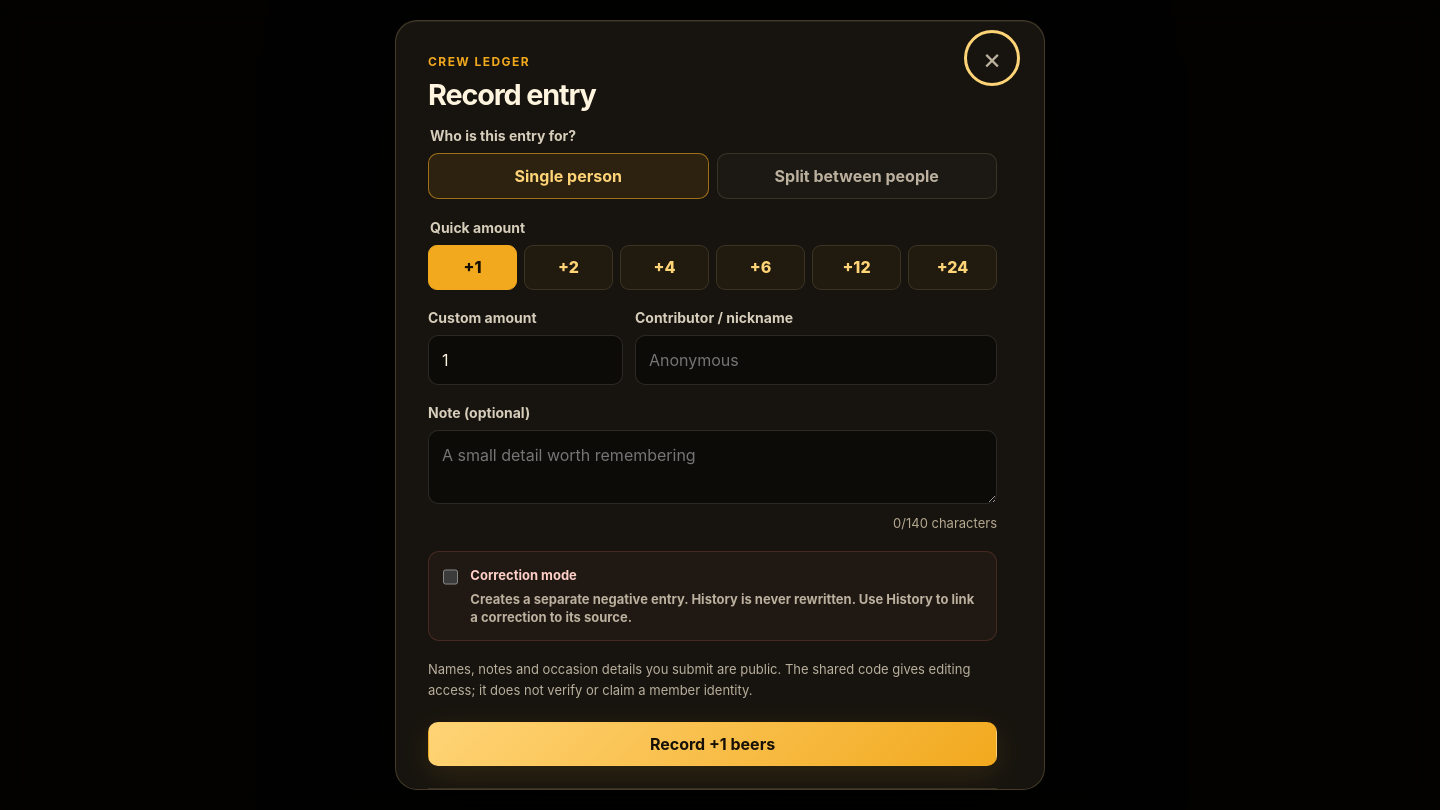
UpdateModal group mode › blocks equal splitting when the total is below the participant count
The width and height of the screenshot is (1440, 810).
Click the button "Split between people" at x=857, y=176, box [716,152,997,198]
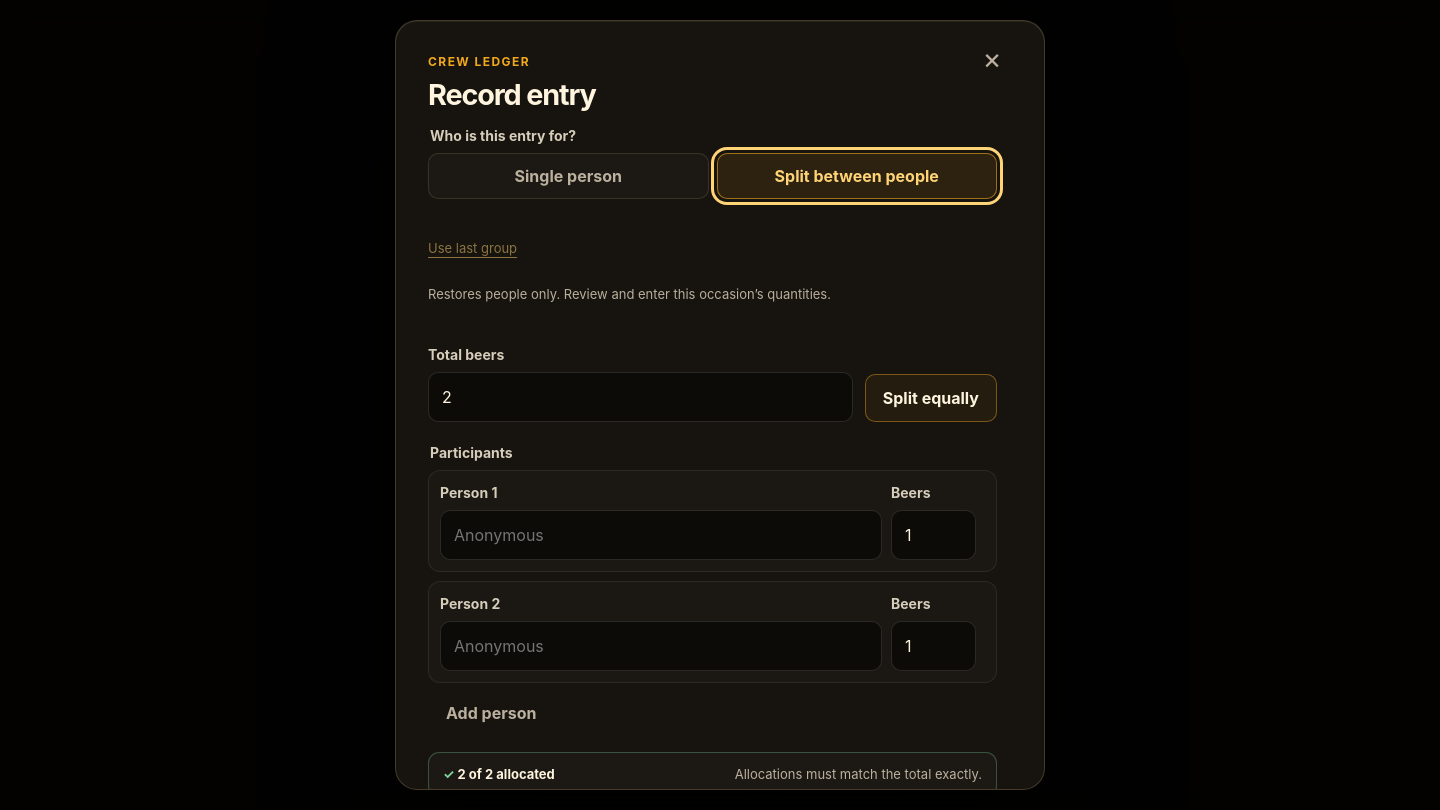
Click the button "Add person" at x=491, y=714, box [428,691,554,736]
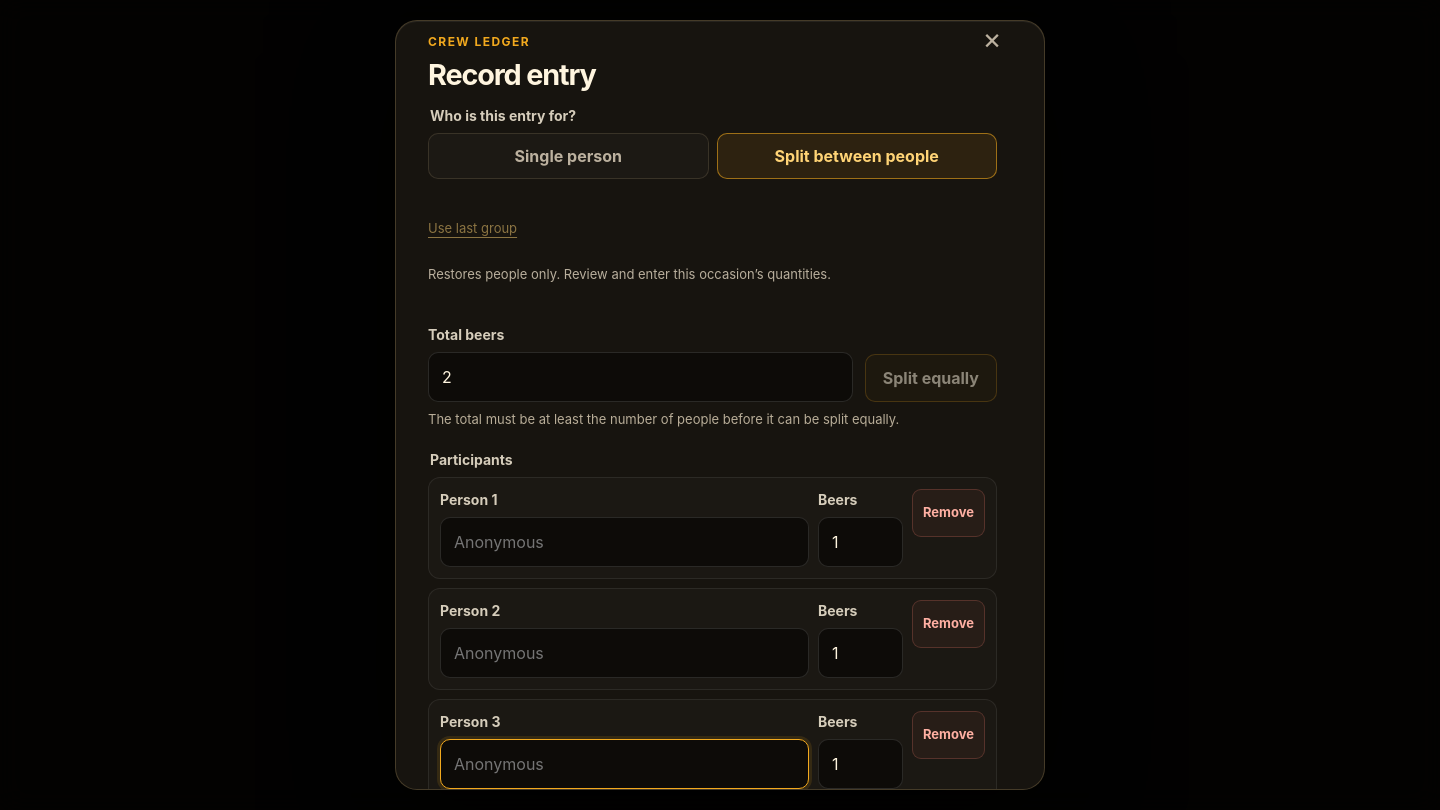
Now the button "Split equally" is disabled, box [865,354,997,402]
Now the text "total must be at least the number of people" is shown, box [428,411,899,427]
